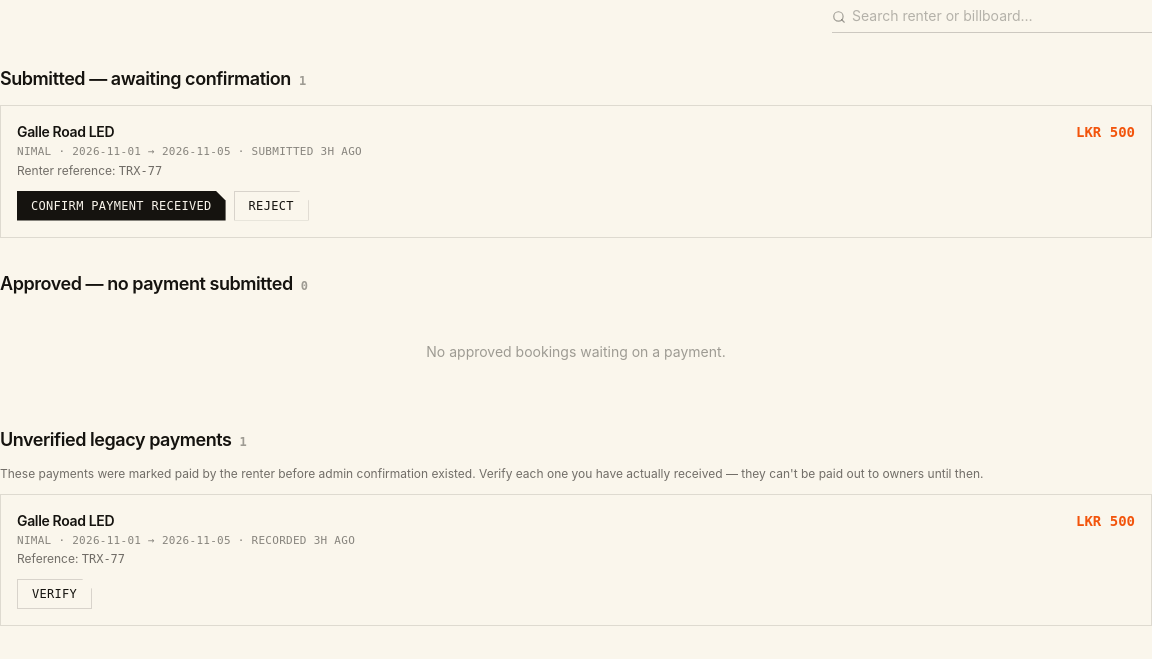
PaymentsPanel › rejects a submission with a required reason
The width and height of the screenshot is (1152, 659).
Expected: the text "Galle Road LED" below "Submitted — awaiting confirmation" is shown, [17,123,114,140]
Click the button "Reject" at (271, 206), box [234,190,309,220]
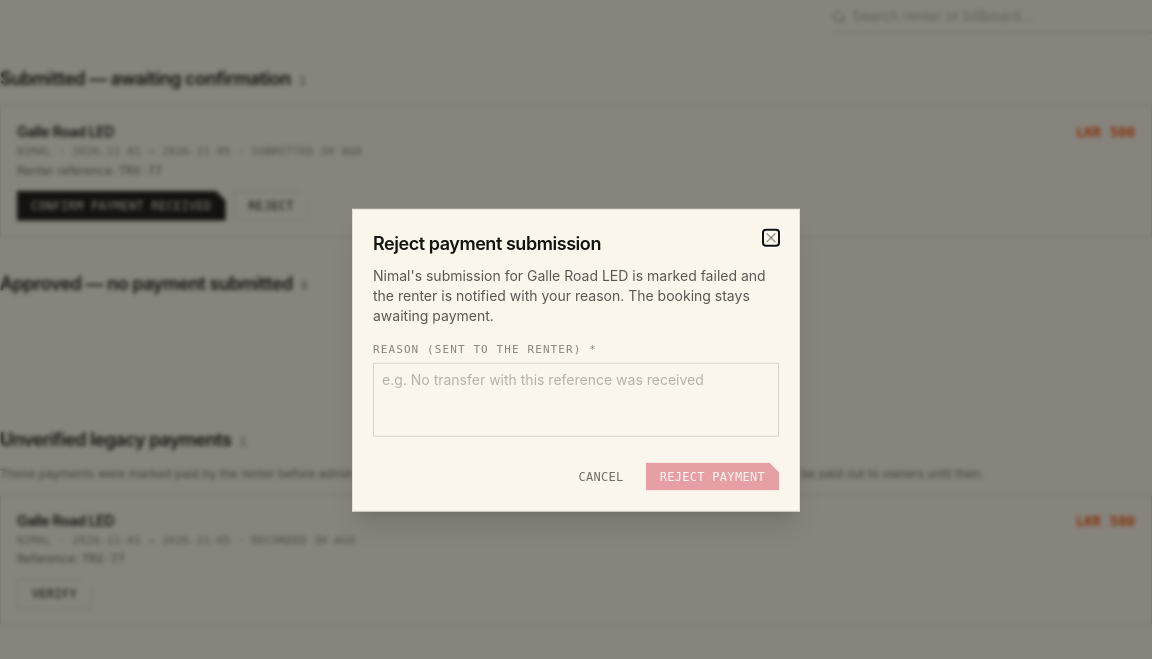
Now the button "Reject payment" is disabled, box [646,462,779,490]
Type "No transfer with this reference" into the text box labelled "Reason (sent to the renter) *" at (576, 399), box [373,362,779,436]
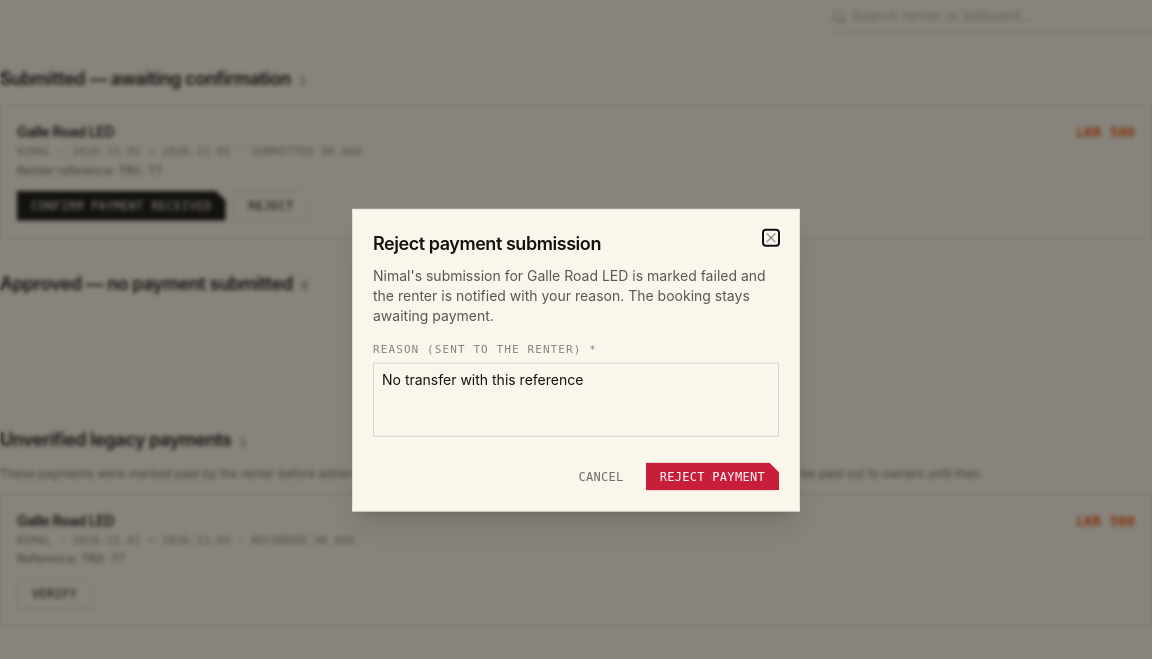
Click the button "Reject payment" at (712, 476), box [646,462,779,490]
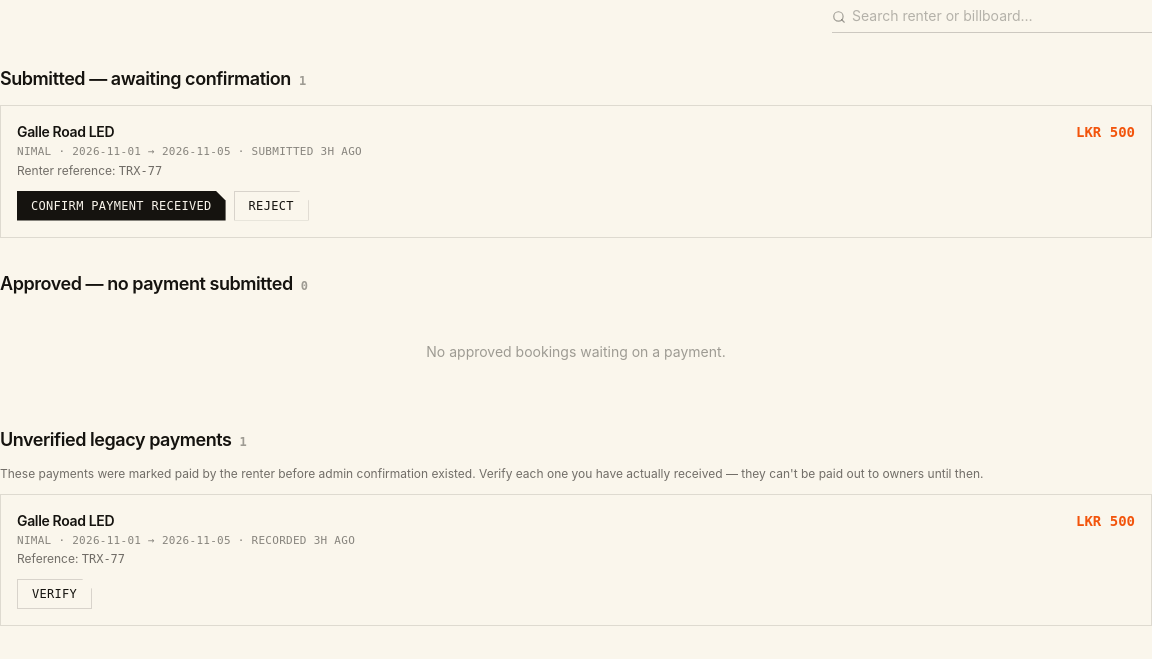
Now the dialog is gone
